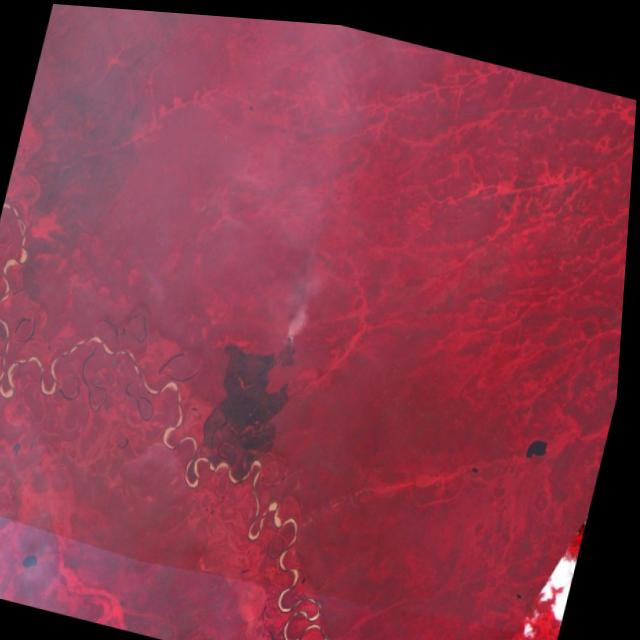fire: (274, 312, 313, 360)
